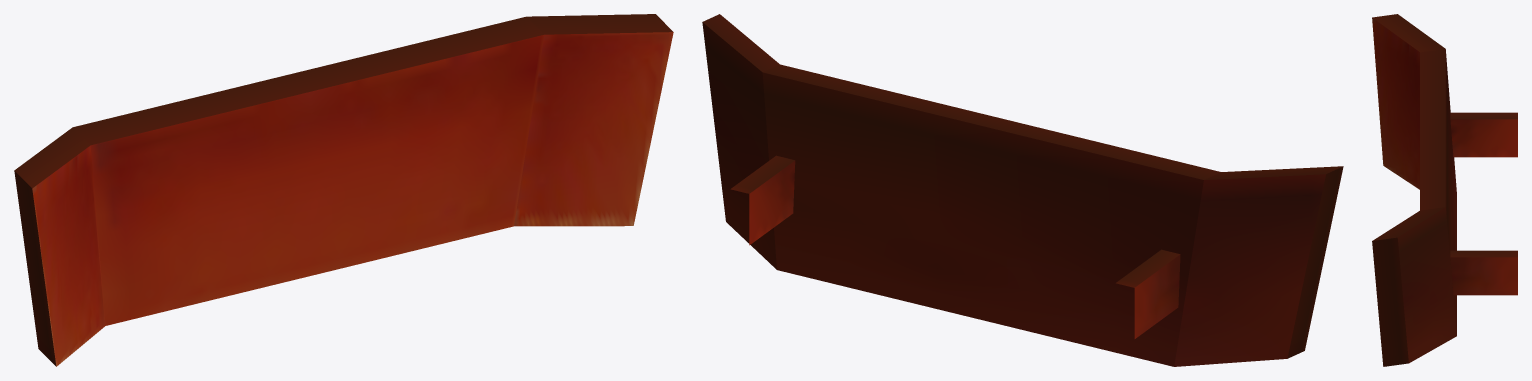
Rendered from Truck 1 Spoiler.glb.
3 views of the same model, side by side, from view 1: azimuth 30°, elevation 25°; view 2: azimuth 150°, elevation 25°; view 3: azimuth 270°, elevation 25° (orthographic). The views are drawn at different scales.
Parts seen in each view (by area): view 1: spoiler; view 2: spoiler; view 3: spoiler.
Part boxes in pixels (<box>): spoiler: <box>14,14,673,366</box>; spoiler: <box>702,14,1343,366</box>; spoiler: <box>1372,14,1517,366</box>.
Size of the model in its own units: 1.56 by 0.4654 by 0.4291.
Materials: 1 (1 with a texture image).
